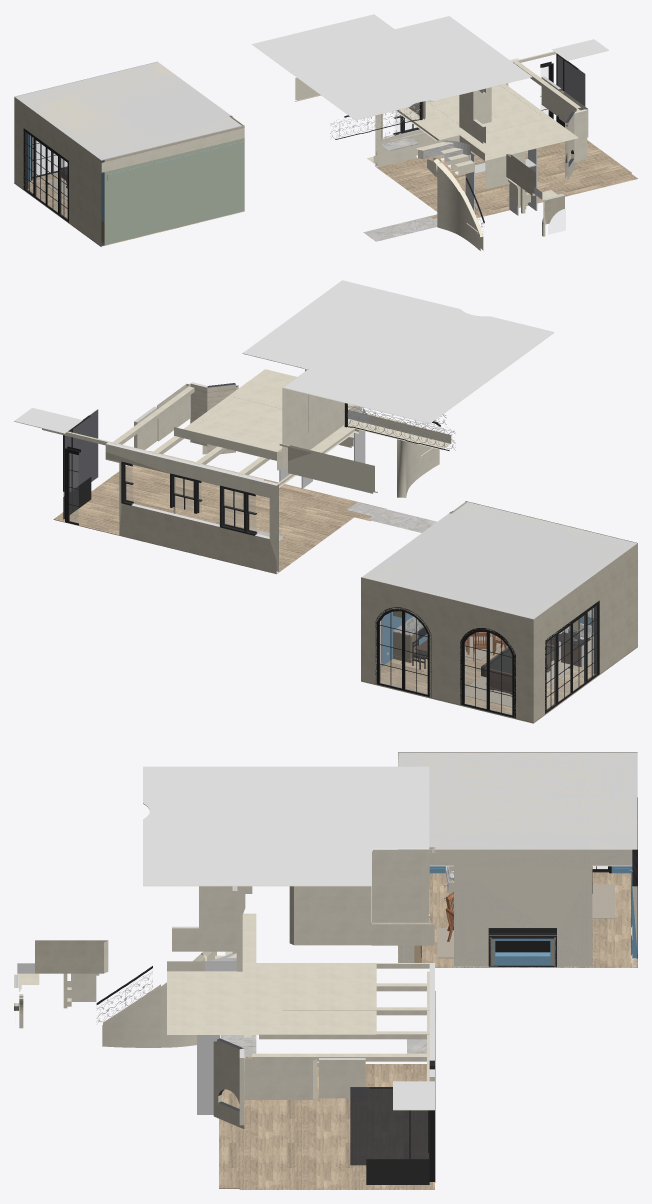
The model's file is game-room-22f03f6e8328.glb.
The picture shows the model from 3 angles, top to bottom: view 1: azimuth 30°, elevation 25°; view 2: azimuth 150°, elevation 25°; view 3: azimuth 270°, elevation 25°; orthographic projection. The views are drawn at different scales.
Visible parts, largest first — view 1: game-room-look-9d91b47435c6fb33, game-room-4a969f5cc1ae3dfe, game-room-30c5953c9ad73e5d, game-room-look-3b0077416469e01b, game-room-look-2575515a05775d9e, game-room-50d54560d247b537, game-room-039192b0560cfac3, game-room-9fbf623a647a21dd, game-room-look-8c6a7019fd0063e7, game-room-2575515a05775d9e, game-room-look-bfb9fa537cd11d1d, game-room-3b0077416469e01b (+18 smaller); view 2: game-room-look-9d91b47435c6fb33, game-room-4a969f5cc1ae3dfe, game-room-look-3b0077416469e01b, game-room-969b861f9850351e, game-room-look-bfb9fa537cd11d1d, game-room-039192b0560cfac3, game-room-look-2575515a05775d9e, game-room-67b6630d0fa028c8, game-room-b7bc8997c06ae95e, game-room-9fbf623a647a21dd, game-room-3b0077416469e01b, game-room-look-245f595ae2832e16 (+19 smaller); view 3: game-room-look-9d91b47435c6fb33, game-room-4a969f5cc1ae3dfe, game-room-look-3b0077416469e01b, game-room-3e6709f91b43c3bf, game-room-look-2575515a05775d9e, game-room-50d54560d247b537, game-room-look-69af8f587252f9fa, game-room-look-cbd4bf73d9724a66, game-room-3b0077416469e01b, game-room-look-32b959c9aa406288, game-room-look-8c6a7019fd0063e7, game-room-55ff1dfd7b659ec1 (+21 smaller).
Boxes of the visible parts, x1,y1,x2,y2 form: game-room-look-9d91b47435c6fb33: (251,14,531,120); game-room-4a969f5cc1ae3dfe: (14,62,242,160); game-room-30c5953c9ad73e5d: (104,126,244,245); game-room-look-3b0077416469e01b: (375,140,637,218); game-room-look-2575515a05775d9e: (367,84,578,163); game-room-50d54560d247b537: (14,61,243,160); game-room-039192b0560cfac3: (14,97,104,246); game-room-9fbf623a647a21dd: (23,128,68,222); game-room-look-8c6a7019fd0063e7: (427,157,483,250); game-room-2575515a05775d9e: (101,128,244,172); game-room-look-bfb9fa537cd11d1d: (375,58,518,167); game-room-3b0077416469e01b: (14,172,239,246); game-room-look-9d91b47435c6fb33: (242,280,554,423); game-room-4a969f5cc1ae3dfe: (361,502,637,619); game-room-look-3b0077416469e01b: (53,451,386,574); game-room-969b861f9850351e: (361,578,529,721); game-room-look-bfb9fa537cd11d1d: (105,442,278,573); game-room-039192b0560cfac3: (529,544,637,722); game-room-look-2575515a05775d9e: (174,369,451,460); game-room-67b6630d0fa028c8: (460,628,515,718); game-room-b7bc8997c06ae95e: (375,607,431,697); game-room-9fbf623a647a21dd: (545,600,599,713); game-room-3b0077416469e01b: (361,644,637,722); game-room-look-245f595ae2832e16: (288,445,374,493); game-room-look-9d91b47435c6fb33: (143,766,429,886); game-room-4a969f5cc1ae3dfe: (398,752,637,849); game-room-look-3b0077416469e01b: (219,1056,434,1189); game-room-3e6709f91b43c3bf: (398,849,632,966); game-room-look-2575515a05775d9e: (167,913,376,1034); game-room-50d54560d247b537: (398,752,637,849); game-room-look-69af8f587252f9fa: (289,886,371,945); game-room-look-cbd4bf73d9724a66: (350,1087,429,1165); game-room-3b0077416469e01b: (398,872,637,967); game-room-look-32b959c9aa406288: (372,849,429,922); game-room-look-8c6a7019fd0063e7: (102,951,216,1047); game-room-55ff1dfd7b659ec1: (398,849,631,967).
Size of the model in its own units: 21.68 by 6.36 by 16.78.
Materials: 69 (17 with a texture image).
